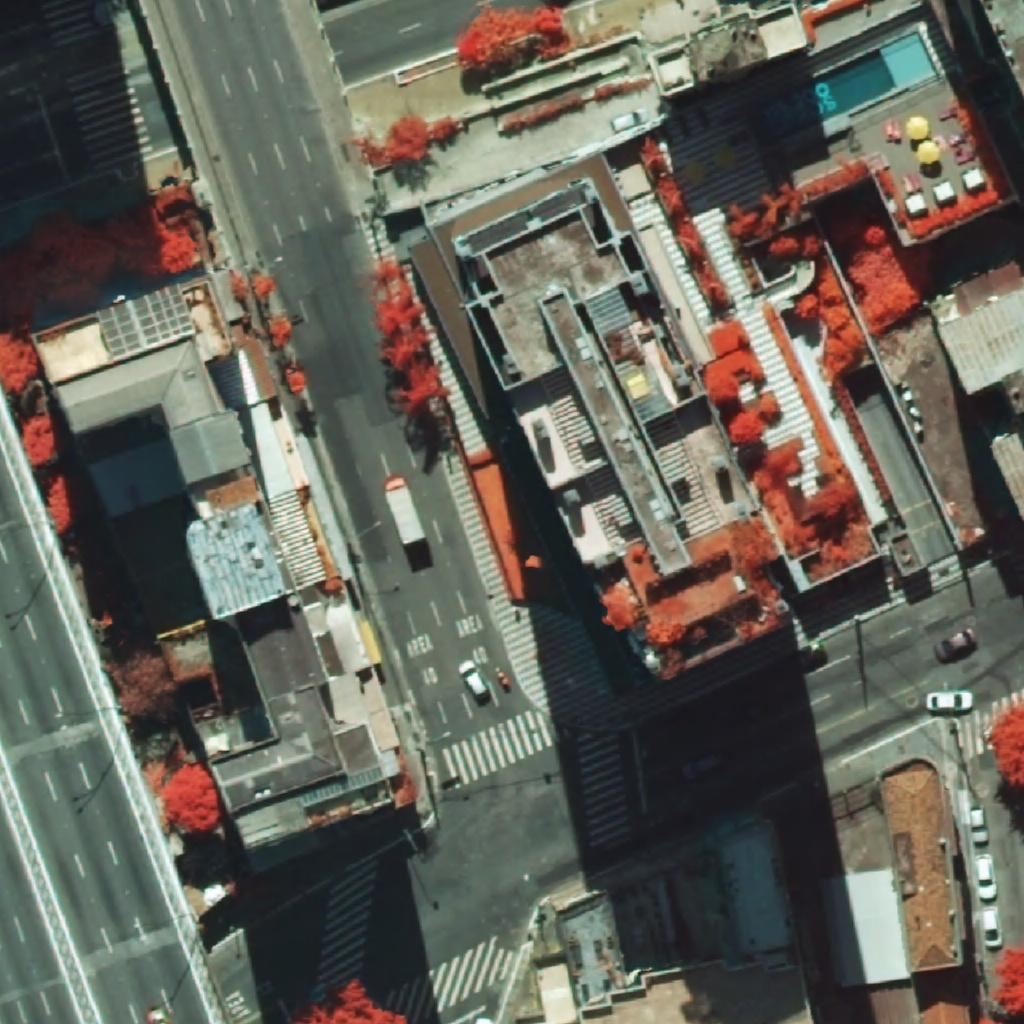pool: (761, 32, 937, 140)
